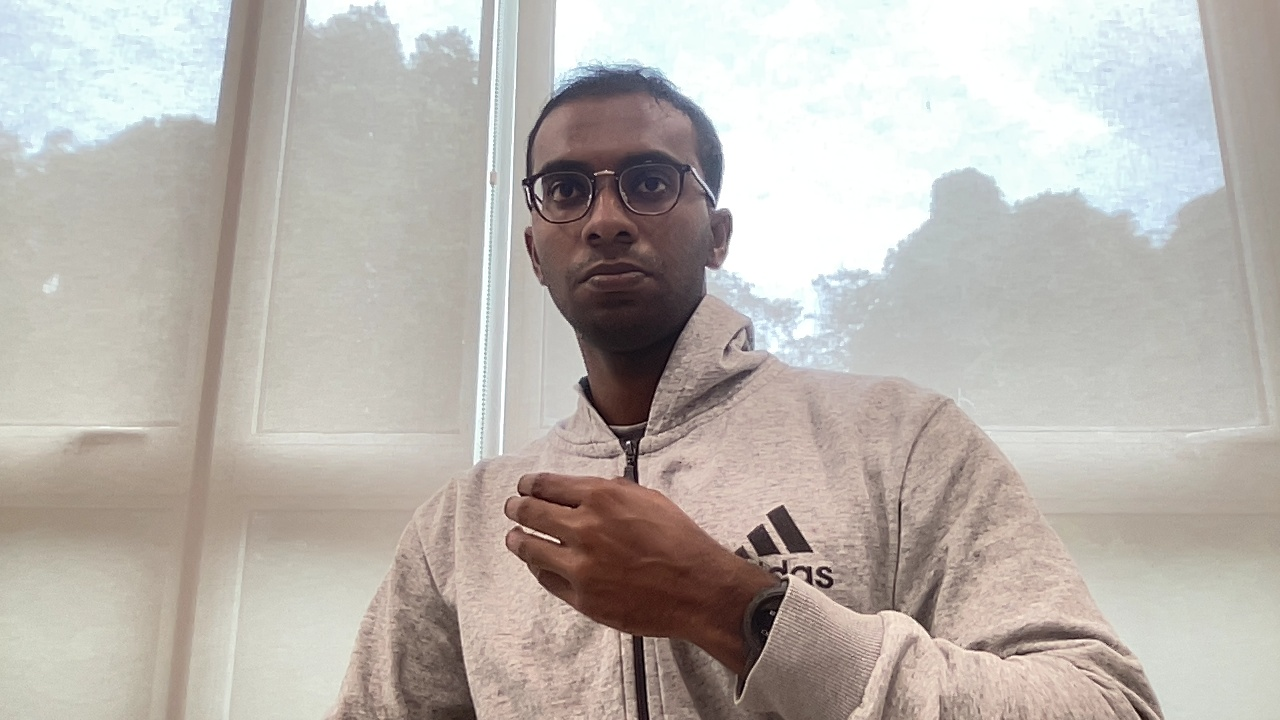drink: (498, 468, 732, 644)
